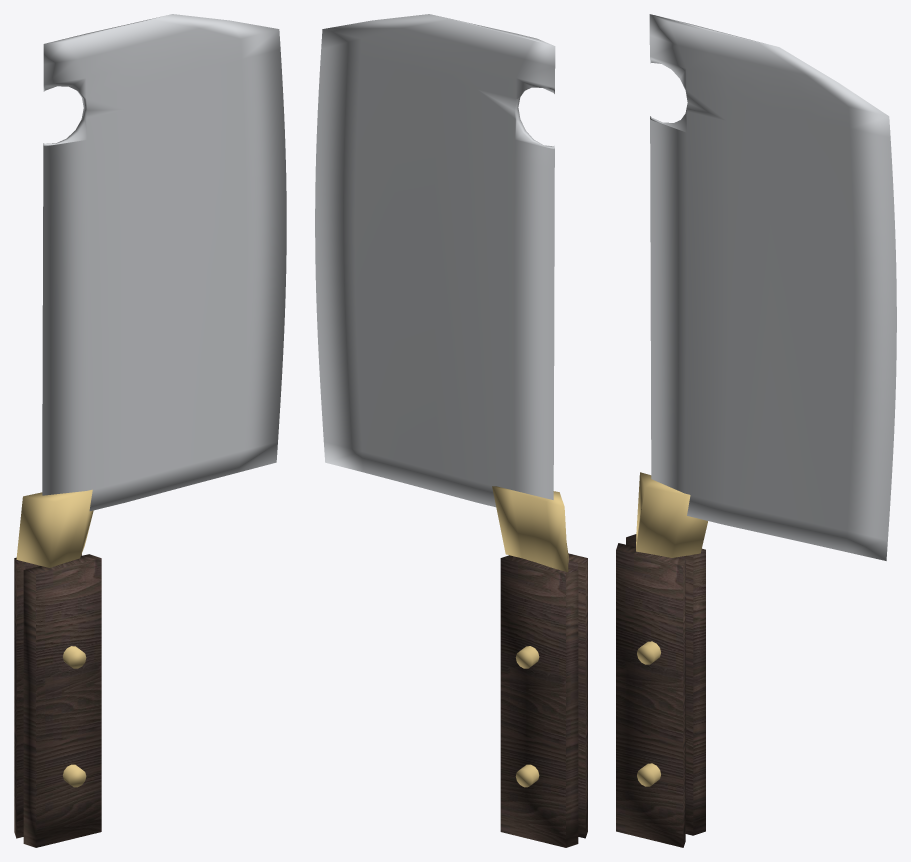
The model's file is cleaver.glb.
3 renders of one model, left to right at view 1: azimuth 30°, elevation 25°; view 2: azimuth 150°, elevation 25°; view 3: azimuth 330°, elevation 25°, orthographic. The views are drawn at different scales.
Visible parts, largest first — view 1: cleaver_blade, cleaver_scale_b, cleaver_bolster, cleaver_scale_a; view 2: cleaver_blade, cleaver_scale_a, cleaver_bolster, cleaver_scale_b; view 3: cleaver_blade, cleaver_scale_b, cleaver_scale_a, cleaver_bolster.
Part boxes in pixels (box(x1,y1,x2,y2)): cleaver_blade: box(42, 14, 286, 511); cleaver_scale_b: box(23, 554, 101, 847); cleaver_bolster: box(16, 489, 93, 567); cleaver_scale_a: box(14, 554, 81, 838); cleaver_blade: box(315, 14, 555, 507); cleaver_scale_a: box(500, 555, 578, 847); cleaver_bolster: box(492, 486, 568, 572); cleaver_scale_b: box(568, 553, 587, 838); cleaver_blade: box(649, 14, 896, 560); cleaver_scale_b: box(616, 543, 685, 847); cleaver_scale_a: box(626, 534, 705, 835); cleaver_bolster: box(636, 472, 707, 557).
Bounding box in the file's own units: 0.106 × 0.3 × 0.024.
Materials: 3 (1 with a texture image).
